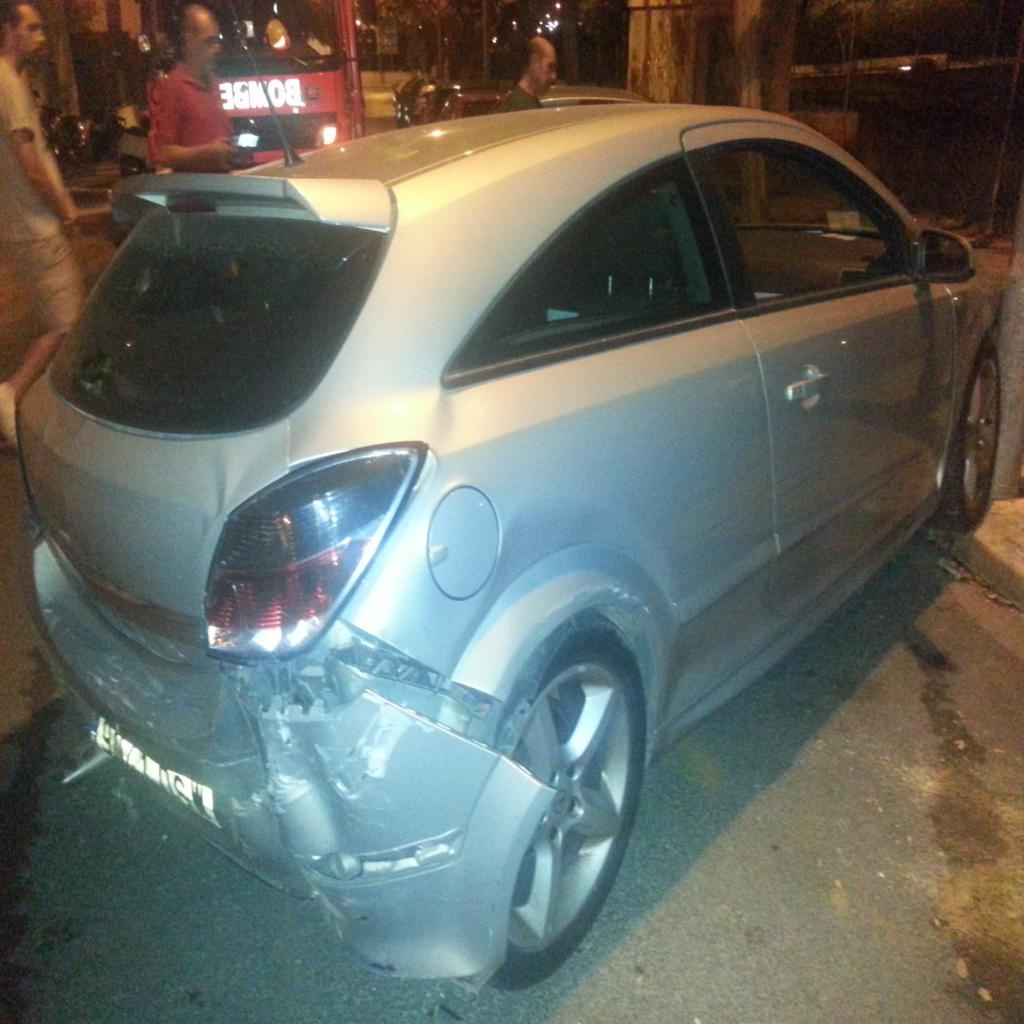Dent: (72, 624, 476, 907)
Scratch: (319, 727, 424, 798), (594, 575, 676, 629)
